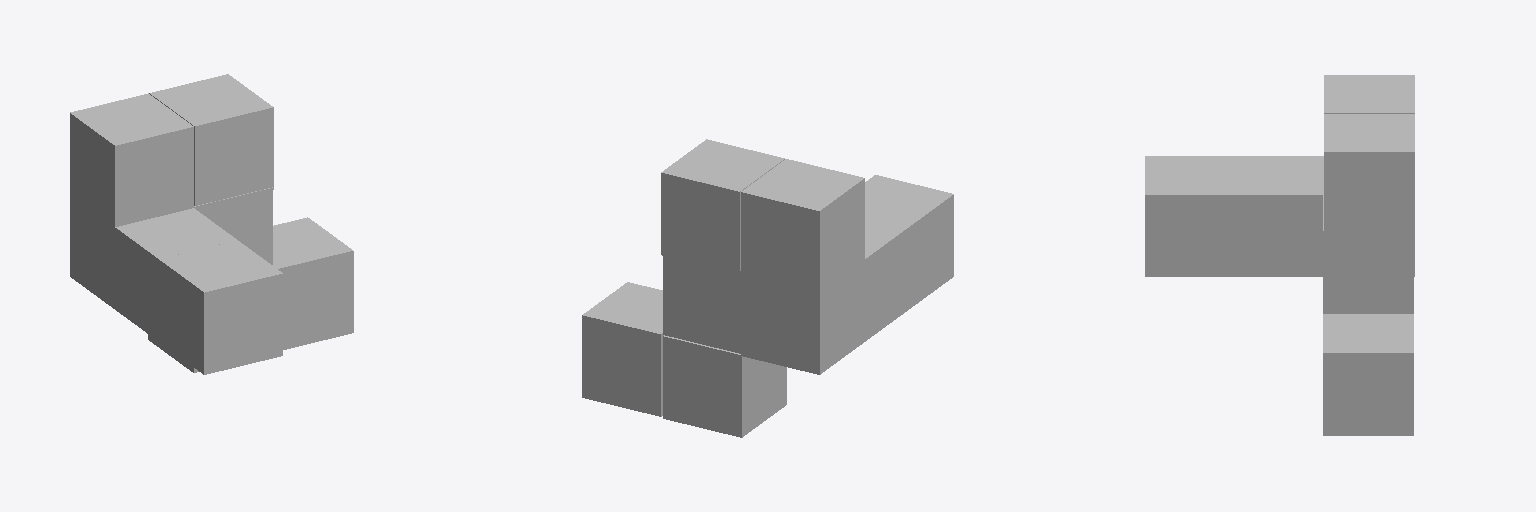
Rendered from duelLine.obj.
The picture shows the model from 3 angles: view 1: azimuth 30°, elevation 25°; view 2: azimuth 150°, elevation 25°; view 3: azimuth 270°, elevation 25°; orthographic projection.
Parts seen in each view (by area): view 1: Cube_Cube.001, Cube.009_Cube.010, Cube.011_Cube.000, Cube.014_Cube.000, Cube.005_Cube.006, Cube.006_Cube.007, Cube.012_Cube.000; view 2: Cube.009_Cube.010, Cube.011_Cube.000, Cube.006_Cube.007, Cube.013_Cube.000, Cube.014_Cube.000, Cube_Cube.001, Cube.012_Cube.000, Cube.005_Cube.006; view 3: Cube_Cube.001, Cube.014_Cube.000, Cube.011_Cube.000, Cube.005_Cube.006, Cube.012_Cube.000, Cube.009_Cube.010.
Part boxes in pixels (bbox=[...]): Cube_Cube.001: bbox=[159, 240, 282, 374]; Cube.009_Cube.010: bbox=[70, 93, 193, 226]; Cube.011_Cube.000: bbox=[149, 74, 273, 205]; Cube.014_Cube.000: bbox=[273, 217, 353, 349]; Cube.005_Cube.006: bbox=[113, 208, 236, 341]; Cube.006_Cube.007: bbox=[70, 195, 114, 307]; Cube.012_Cube.000: bbox=[194, 187, 272, 264]; Cube.009_Cube.010: bbox=[741, 159, 864, 293]; Cube.011_Cube.000: bbox=[661, 139, 784, 273]; Cube.006_Cube.007: bbox=[741, 262, 864, 374]; Cube.013_Cube.000: bbox=[663, 335, 786, 437]; Cube.014_Cube.000: bbox=[582, 282, 663, 416]; Cube_Cube.001: bbox=[865, 175, 953, 308]; Cube.012_Cube.000: bbox=[663, 256, 740, 353]; Cube.005_Cube.006: bbox=[863, 217, 908, 342]; Cube_Cube.001: bbox=[1145, 156, 1235, 276]; Cube.014_Cube.000: bbox=[1323, 315, 1413, 435]; Cube.011_Cube.000: bbox=[1324, 114, 1414, 234]; Cube.005_Cube.006: bbox=[1236, 156, 1323, 276]; Cube.012_Cube.000: bbox=[1323, 193, 1413, 313]; Cube.009_Cube.010: bbox=[1324, 75, 1414, 113].
Bounding box in the file's own units: 3.59 × 3.55 × 3.52.